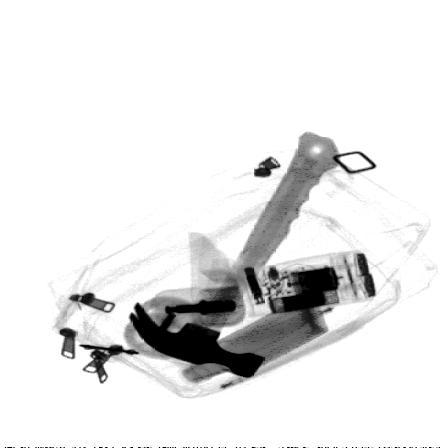Hammer: (127, 130, 341, 379)
